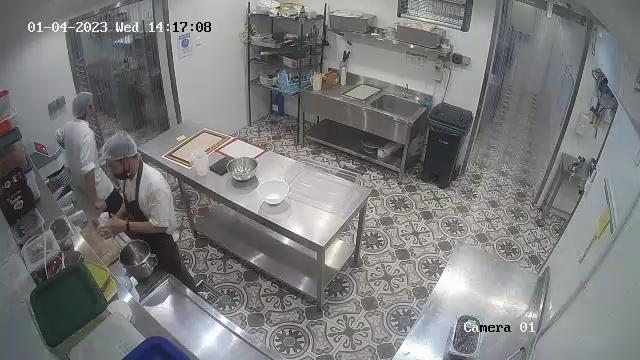no_apron: (121, 166, 191, 291)
